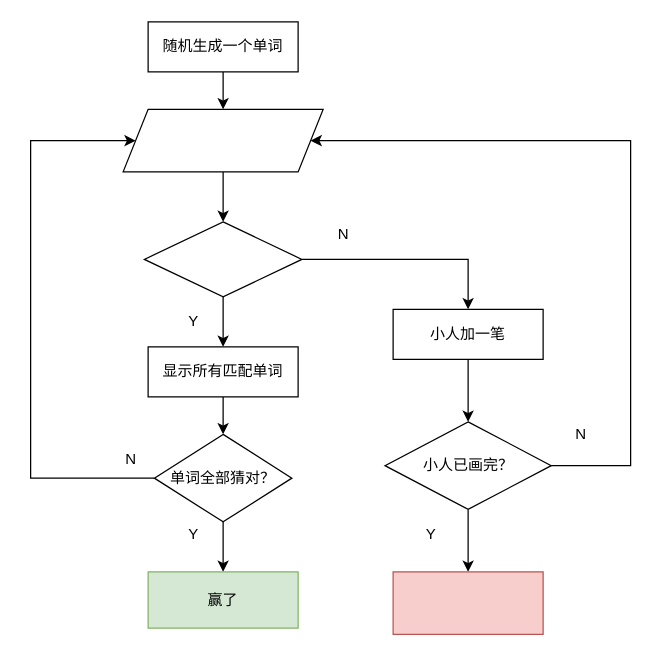
Some shapes in this 663 by 656 pixel diagram are drawn without their labels. Here are the shapes that lost their labels. From the top down, the centre of each, then its label:
the point at 222,140: 用户输入一个字母
the point at 222,259: 字母在单词中？
the point at 467,602: 输了
